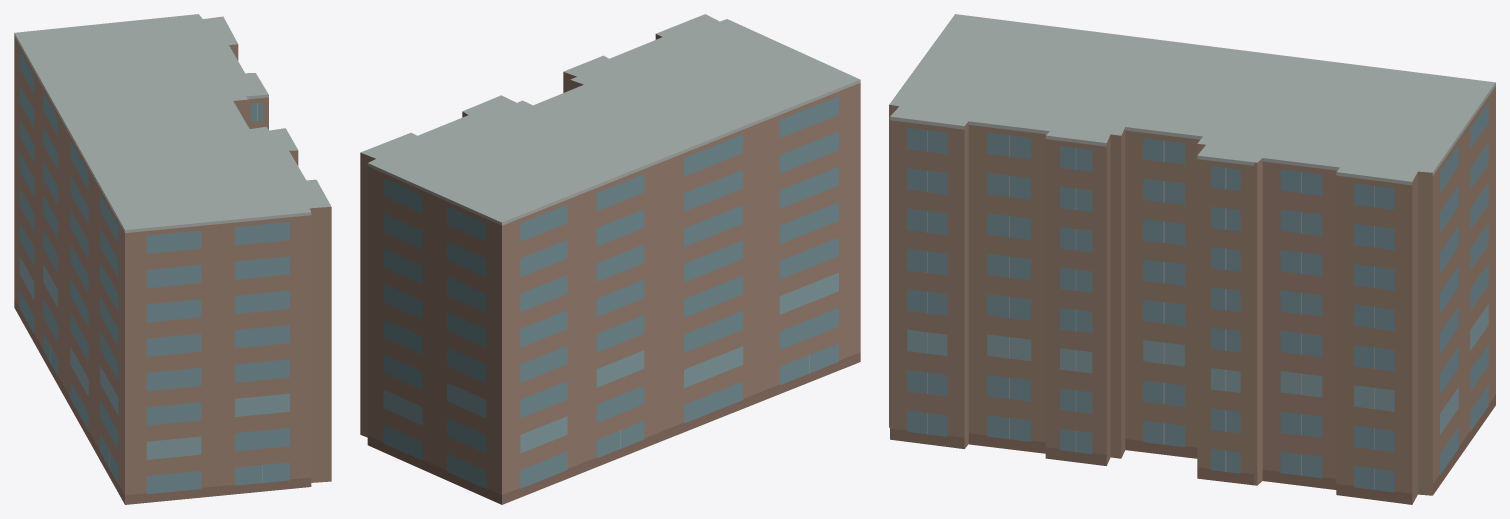
The model's file is survey-upis-32860484.glb.
3 renders of one model, left to right at view 1: azimuth 30°, elevation 25°; view 2: azimuth 150°, elevation 25°; view 3: azimuth 270°, elevation 25°, orthographic. The views are drawn at different scales.
Parts seen in each view (by area): view 1: survey-upis-32860484.tmp; view 2: survey-upis-32860484.tmp; view 3: survey-upis-32860484.tmp.
Boxes of the visible parts, left/top/right/bottom form: survey-upis-32860484.tmp: left=14, top=14, right=331, bottom=504; survey-upis-32860484.tmp: left=360, top=14, right=860, bottom=504; survey-upis-32860484.tmp: left=889, top=14, right=1495, bottom=504.
Bounding box in the file's own units: 25.09 × 22.5 × 38.32.
